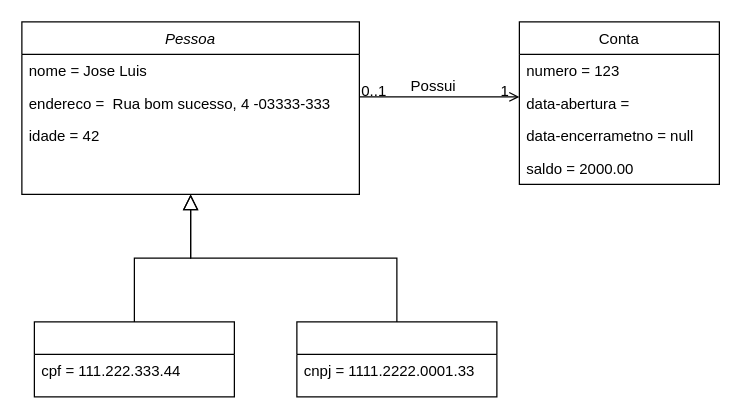
The diagram is 741 pixels wide and 419 high, and some of its shapes have lost their labels. Each missing label, with the box of its shape:
pessoa Fisica: (33, 321, 234, 397)
pessoa juridica: (296, 321, 497, 397)
